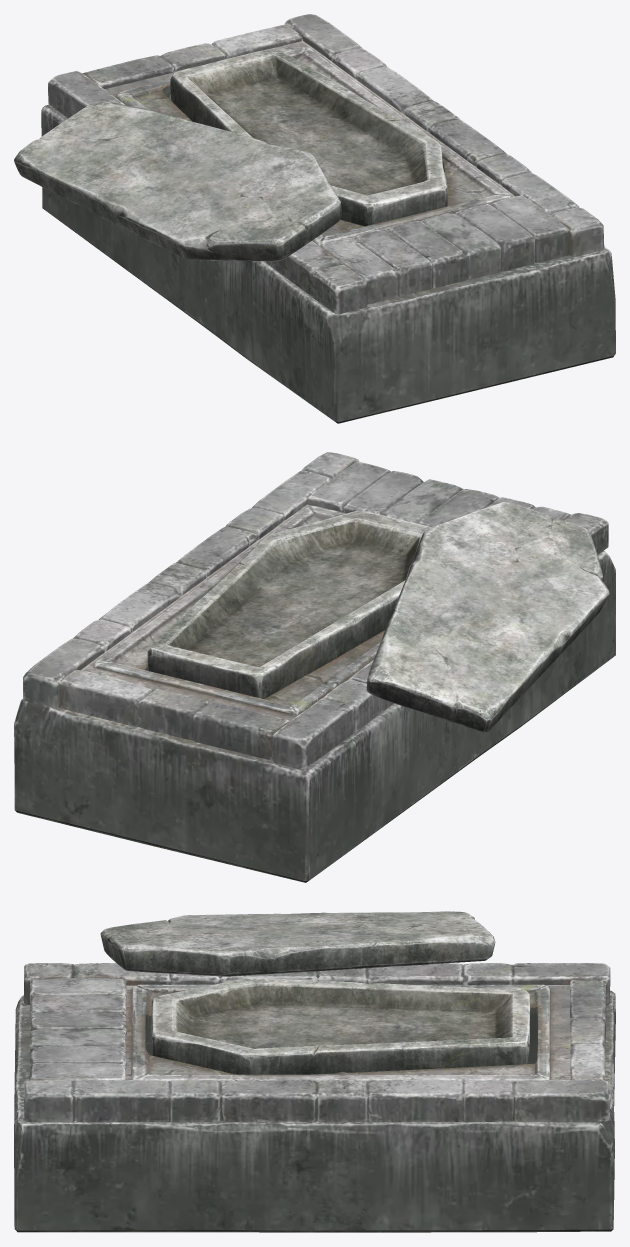
The picture shows the model from 3 angles, top to bottom: view 1: azimuth 30°, elevation 25°; view 2: azimuth 150°, elevation 25°; view 3: azimuth 270°, elevation 25°; orthographic projection. The views are drawn at different scales.
Parts seen in each view (by area): view 1: SM_Tombstone_Stone_Base_05_LOD0; view 2: SM_Tombstone_Stone_Base_05_LOD0; view 3: SM_Tombstone_Stone_Base_05_LOD0.
Boxes of the visible parts, bbox=[...] form: SM_Tombstone_Stone_Base_05_LOD0: bbox=[14, 14, 615, 423]; SM_Tombstone_Stone_Base_05_LOD0: bbox=[14, 452, 615, 882]; SM_Tombstone_Stone_Base_05_LOD0: bbox=[14, 911, 615, 1232].
Size of the model in its own units: 2.73 by 1.21 by 3.67.
3 materials, 3 textured.
